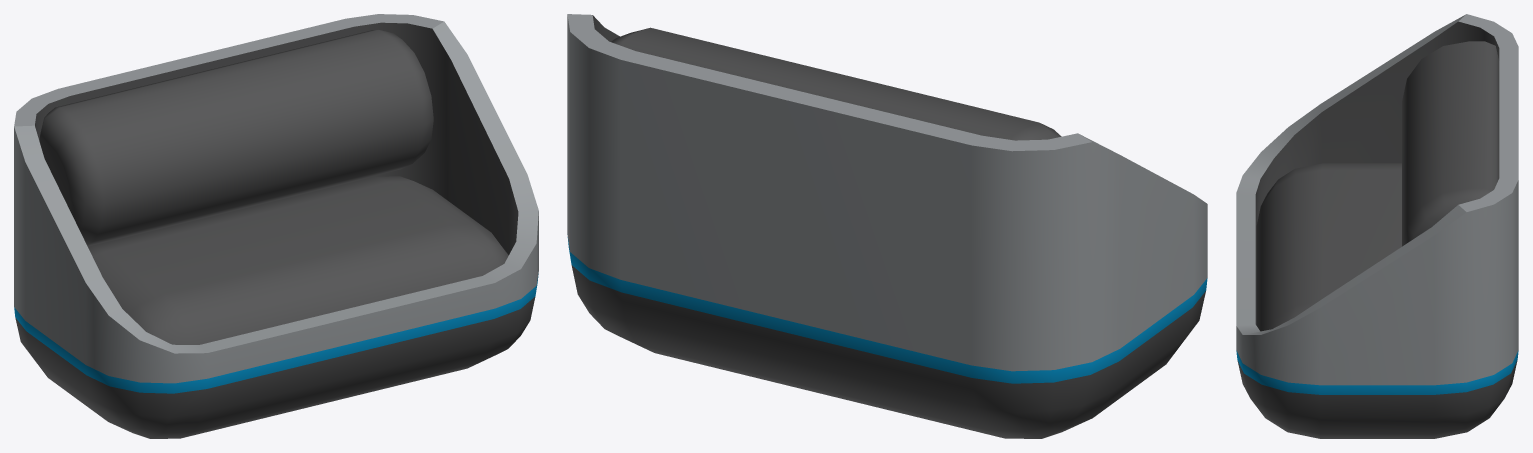
File: Mini_sofa_002.fbx
3 renders of one model, left to right at view 1: azimuth 30°, elevation 25°; view 2: azimuth 150°, elevation 25°; view 3: azimuth 270°, elevation 25°, orthographic. The views are drawn at different scales.
Visible parts, largest first — view 1: Mini_sofa_002; view 2: Mini_sofa_002; view 3: Mini_sofa_002.
Boxes of the visible parts, bbox=[...] form: Mini_sofa_002: bbox=[14, 14, 538, 438]; Mini_sofa_002: bbox=[567, 14, 1207, 438]; Mini_sofa_002: bbox=[1236, 14, 1518, 438].
Size of the model in its own units: 146 by 85.72 by 84.32.
